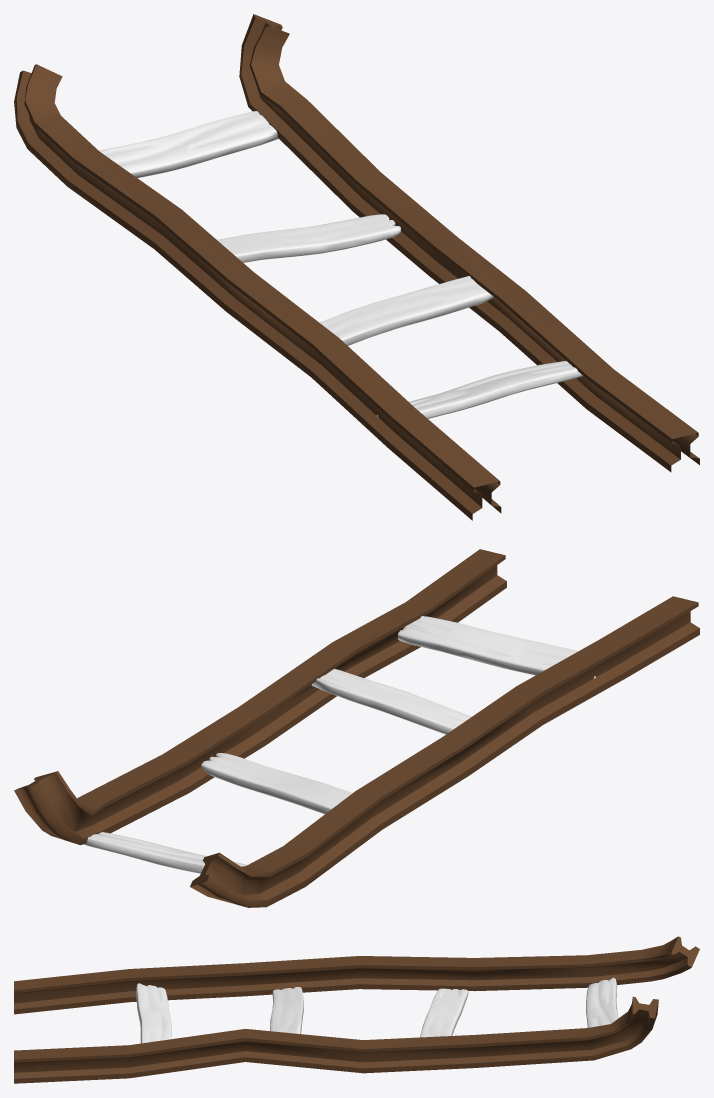
Rendered from Train_01.fbx.
The picture shows the model from 3 angles, top to bottom: view 1: azimuth 30°, elevation 25°; view 2: azimuth 150°, elevation 25°; view 3: azimuth 270°, elevation 25°; orthographic projection. The views are drawn at different scales.
Visible parts, largest first — view 1: Box003; view 2: Box003; view 3: Box003.
Part boxes in pixels (x1,y1,x2,y2): Box003: [14, 14, 699, 520]; Box003: [14, 549, 699, 907]; Box003: [14, 936, 699, 1083].
Bounding box in the file's own units: 250 × 111 × 794.
